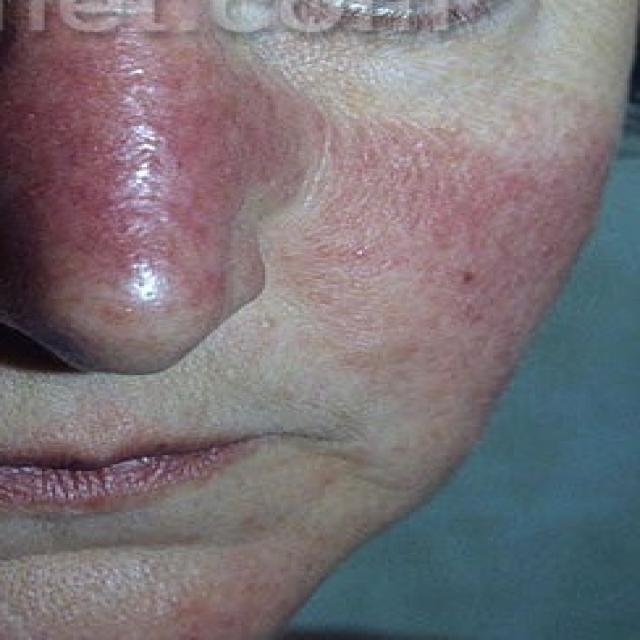Rosacea: (28, 43, 239, 268)
